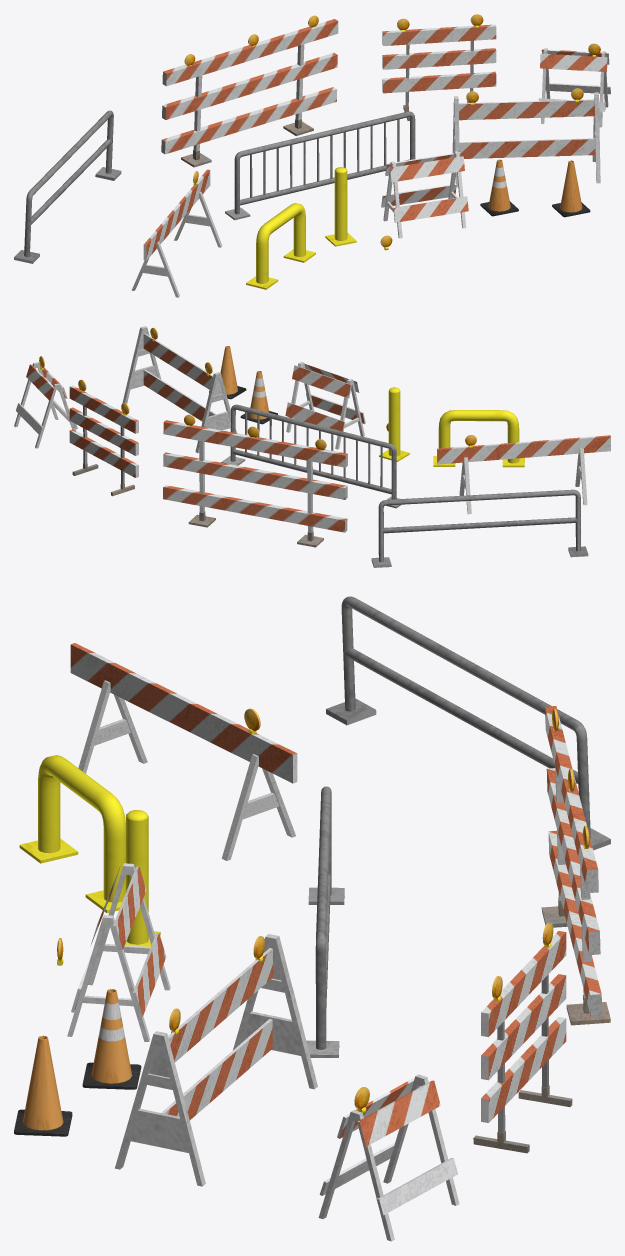
The model's file is road break item.glb.
3 views of the same model, one above another, from view 1: azimuth 30°, elevation 25°; view 2: azimuth 150°, elevation 25°; view 3: azimuth 270°, elevation 25° (orthographic). The views are drawn at different scales.
Visible parts, largest first — view 1: Barricade3L, A_Barricade2L, Barricade3S, A_Barricade_Traffic, CrowdControl, RailGuard, A_Barricade1S, A_Barricade_Safety, U_Barricade, ParkingLot_Barricade, ConeTraffic, ConeBasic; view 2: Barricade3L, A_Barricade2L, Barricade3S, A_Barricade1S, CrowdControl, RailGuard, A_Barricade_Traffic, U_Barricade, A_Barricade_Safety, ParkingLot_Barricade, ConeTraffic, ConeBasic; view 3: A_Barricade2L, A_Barricade1S, Barricade3S, Barricade3L, RailGuard, A_Barricade_Safety, U_Barricade, A_Barricade_Traffic, CrowdControl, ConeTraffic, ConeBasic, ParkingLot_Barricade.
Boxes of the visible parts, x1,y1,x2,y2 form: Barricade3L: [161, 19, 338, 167]; A_Barricade2L: [452, 92, 600, 187]; Barricade3S: [382, 24, 496, 120]; A_Barricade_Traffic: [381, 151, 468, 238]; CrowdControl: [225, 111, 415, 220]; RailGuard: [14, 110, 121, 263]; A_Barricade1S: [131, 169, 222, 297]; A_Barricade_Safety: [538, 48, 610, 127]; U_Barricade: [246, 203, 315, 289]; ParkingLot_Barricade: [325, 167, 356, 246]; ConeTraffic: [480, 159, 518, 216]; ConeBasic: [552, 160, 590, 217]; Barricade3L: [163, 420, 347, 547]; A_Barricade2L: [122, 326, 236, 453]; Barricade3S: [69, 385, 138, 496]; A_Barricade1S: [437, 435, 610, 514]; CrowdControl: [221, 404, 401, 508]; RailGuard: [371, 489, 588, 567]; A_Barricade_Traffic: [285, 361, 365, 449]; U_Barricade: [433, 410, 524, 467]; A_Barricade_Safety: [14, 362, 77, 448]; ParkingLot_Barricade: [379, 387, 409, 461]; ConeTraffic: [240, 371, 277, 424]; ConeBasic: [209, 346, 246, 399]; A_Barricade2L: [115, 934, 317, 1186]; A_Barricade1S: [70, 643, 297, 860]; Barricade3S: [473, 931, 572, 1153]; Barricade3L: [541, 706, 610, 1025]; RailGuard: [326, 596, 610, 850]; A_Barricade_Safety: [318, 1074, 459, 1241]; U_Barricade: [19, 755, 125, 913]; A_Barricade_Traffic: [67, 863, 170, 1041]; CrowdControl: [306, 786, 344, 1057]; ConeTraffic: [82, 989, 141, 1089]; ConeBasic: [14, 1035, 72, 1136]; ParkingLot_Barricade: [114, 810, 160, 946].
Bounding box in the file's own units: 9.1 × 1.6 × 4.28.
1 material, 1 textured.
